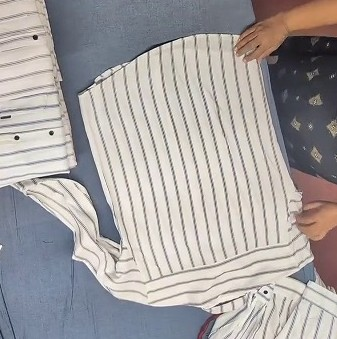T_SHIRT: (3, 46, 310, 322)
